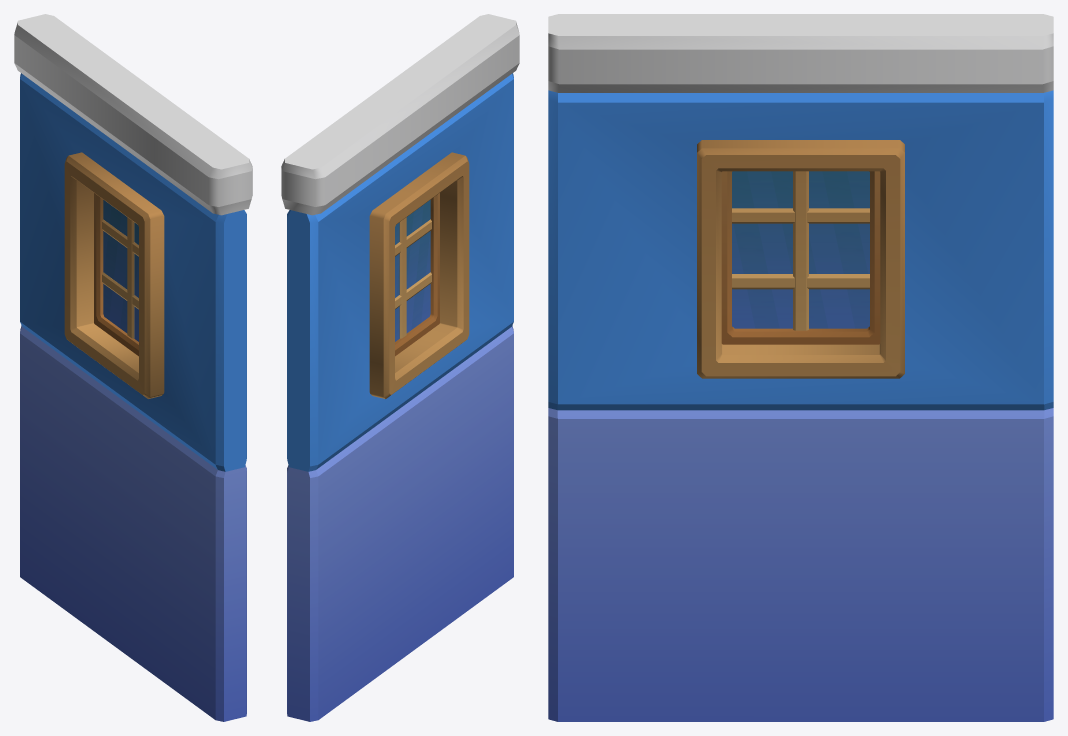
File: Wall_D_3.glb
The picture shows the model from 3 angles, left to right: view 1: azimuth 30°, elevation 25°; view 2: azimuth 150°, elevation 25°; view 3: azimuth 270°, elevation 25°; orthographic projection. The views are drawn at different scales.
Visible parts, largest first — view 1: Wall_D_3; view 2: Wall_D_3; view 3: Wall_D_3.
Boxes of the visible parts, x1,y1,x2,y2 form: Wall_D_3: (14, 14, 252, 721); Wall_D_3: (281, 14, 519, 721); Wall_D_3: (548, 14, 1053, 721).
Size of the model in its own units: 0.3277 by 3 by 2.
2 materials, 2 textured.
